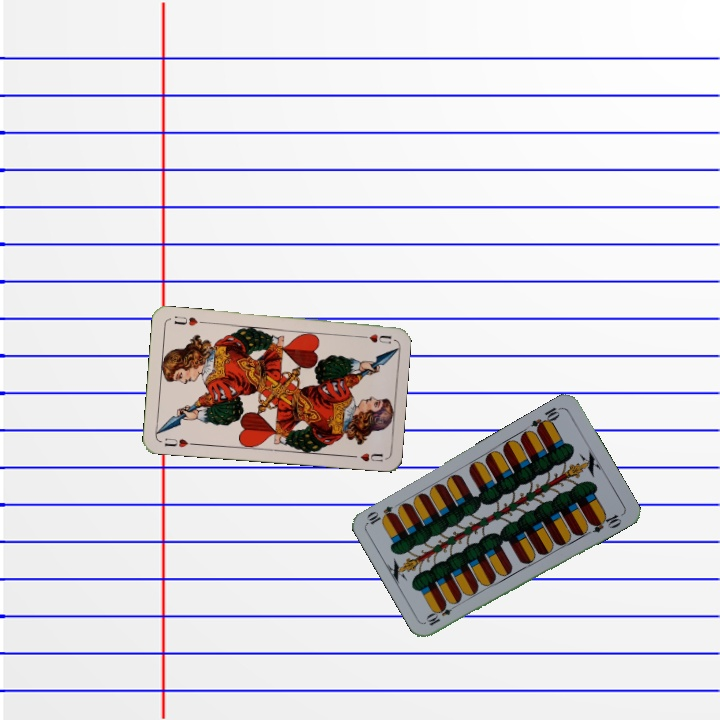E10: (527, 403, 564, 434), (422, 599, 460, 628)
HU: (354, 330, 394, 346), (160, 434, 198, 450)
